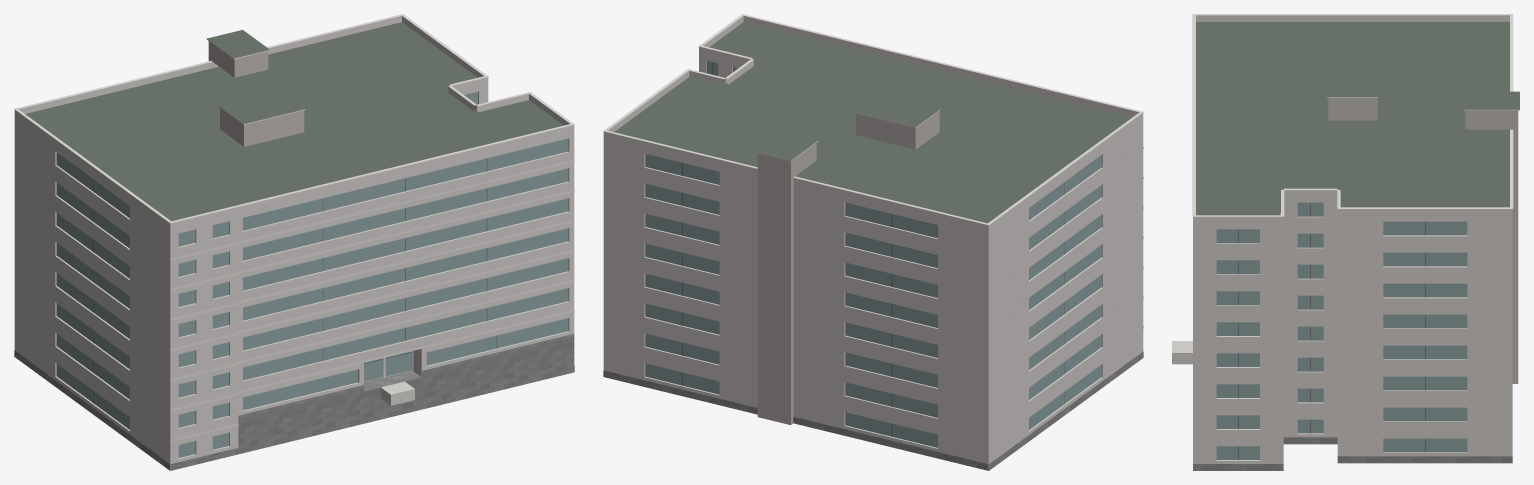
3 renders of one model, left to right at view 1: azimuth 30°, elevation 25°; view 2: azimuth 150°, elevation 25°; view 3: azimuth 270°, elevation 25°, orthographic. The views are drawn at different scales.
Visible parts, largest first — view 1: b75__wall, b75__roof, b75__glass, b75__base, b75__trim, b75__parapet, b75__wall2, b75__entranceStair; view 2: b75__wall, b75__roof, b75__glass, b75__wall2, b75__parapet, b75__base, b75__trim; view 3: b75__wall, b75__roof, b75__glass, b75__parapet, b75__wall2, b75__trim, b75__base, b75__entranceStair.
Boxes of the visible parts, x1,y1,x2,y2 form: b75__wall: [14, 83, 574, 470]; b75__roof: [25, 22, 572, 453]; b75__glass: [56, 92, 568, 457]; b75__base: [14, 334, 574, 470]; b75__trim: [14, 14, 574, 441]; b75__parapet: [14, 16, 574, 229]; b75__wall2: [208, 41, 304, 146]; b75__entranceStair: [380, 381, 414, 405]; b75__wall: [603, 52, 1143, 470]; b75__roof: [614, 22, 1132, 223]; b75__glass: [645, 61, 1101, 447]; b75__wall2: [757, 111, 939, 424]; b75__parapet: [603, 16, 1143, 231]; b75__base: [603, 351, 1143, 470]; b75__trim: [603, 14, 1143, 328]; b75__wall: [1193, 196, 1512, 463]; b75__roof: [1196, 22, 1519, 215]; b75__glass: [1216, 202, 1467, 459]; b75__parapet: [1193, 15, 1512, 222]; b75__wall2: [1328, 98, 1518, 383]; b75__trim: [1192, 14, 1519, 217]; b75__base: [1193, 437, 1512, 470]; b75__entranceStair: [1172, 341, 1192, 364].
Bounding box in the file's own units: 50.5 × 31.97 × 36.62.
Materials: 10 (1 with a texture image).
